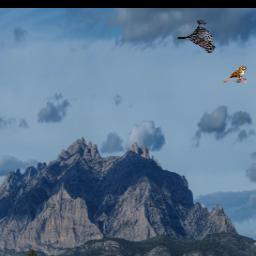Sparrow: (175, 21, 215, 54), (223, 65, 247, 83)
